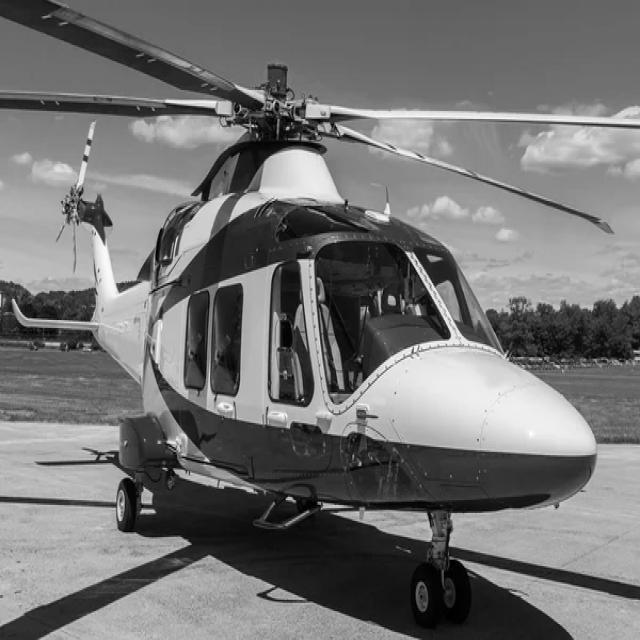Helicopter: (0, 0, 639, 626)
